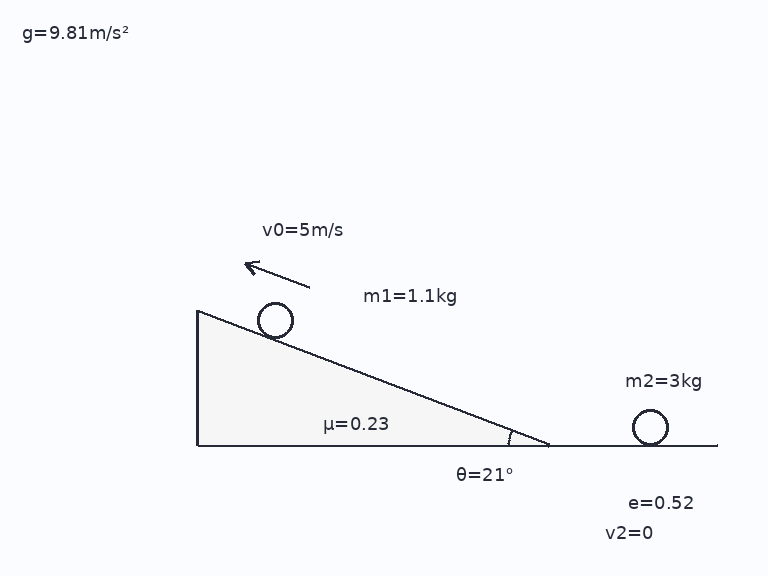ball: (255, 300, 295, 340), (630, 407, 670, 447)
ramp: (195, 308, 551, 447)
